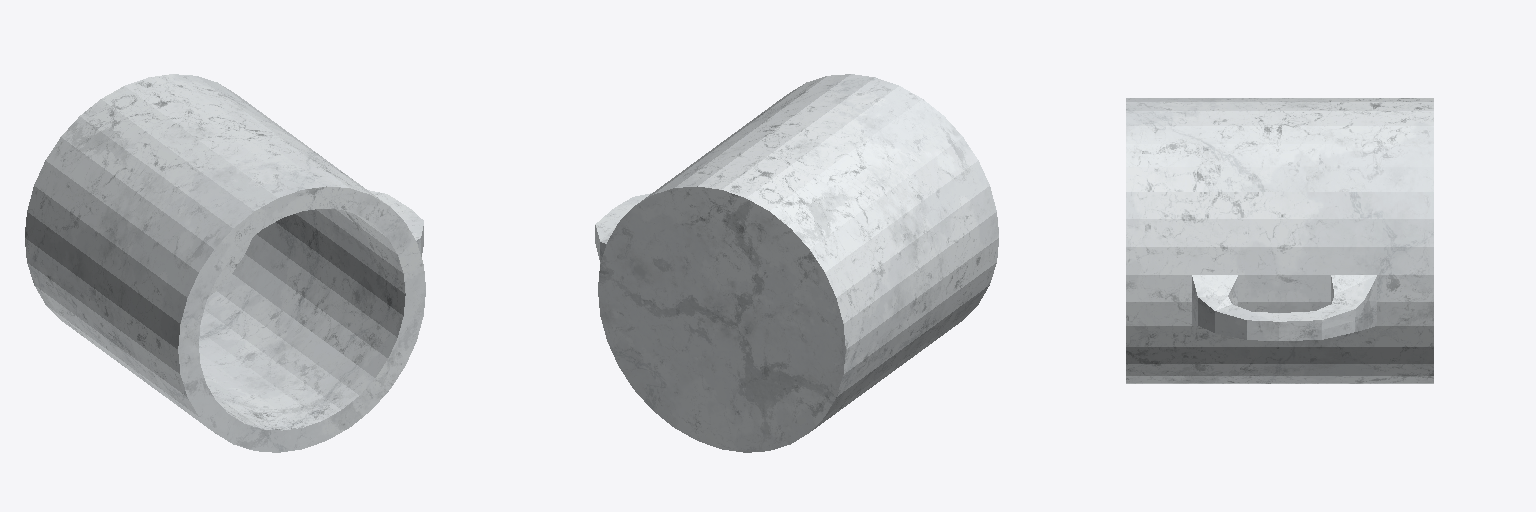
The picture shows the model from 3 angles: view 1: azimuth 30°, elevation 25°; view 2: azimuth 150°, elevation 25°; view 3: azimuth 270°, elevation 25°; orthographic projection.
Visible parts, largest first — view 1: mug_tex_Cylinder.000; view 2: mug_tex_Cylinder.000; view 3: mug_tex_Cylinder.000.
Part boxes in pixels (x1,y1,x2,y2): mug_tex_Cylinder.000: (25,74,425,452); mug_tex_Cylinder.000: (595,74,998,452); mug_tex_Cylinder.000: (1126,98,1433,383).
Size of the model in its own units: 0.118 by 0.0946 by 0.1014.
1 materials, 1 textured.